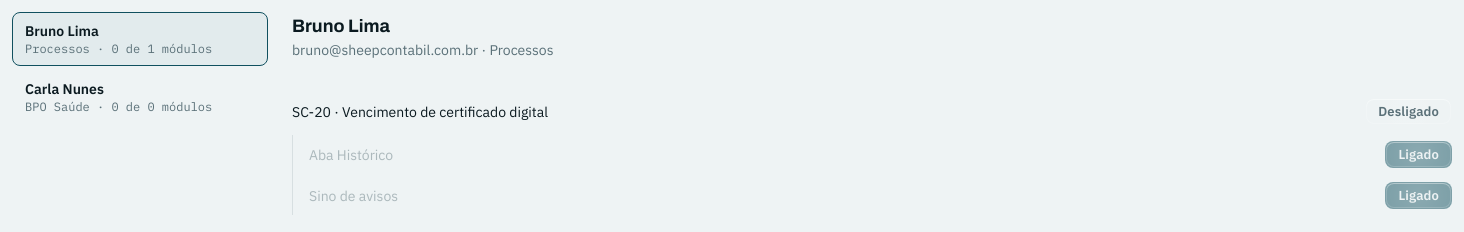
it: PainelGestaoUsuarios › troca o operador selecionado ao clicar na lista
Click the text "Carla Nunes" at (64, 89), box [25,80,104,98]
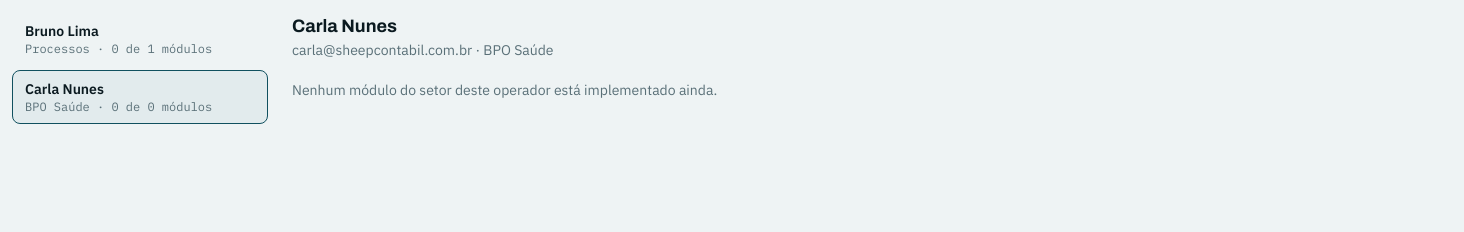
expect the heading "Carla Nunes" is shown: met, box [292,16,397,36]
